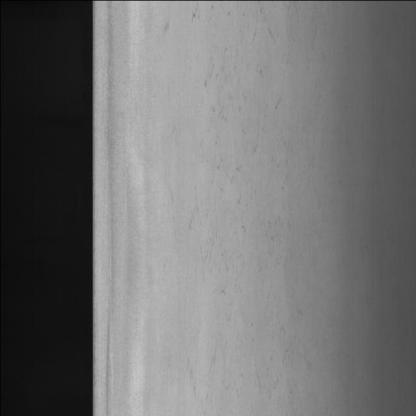silk_spot: (178, 29, 282, 370)
